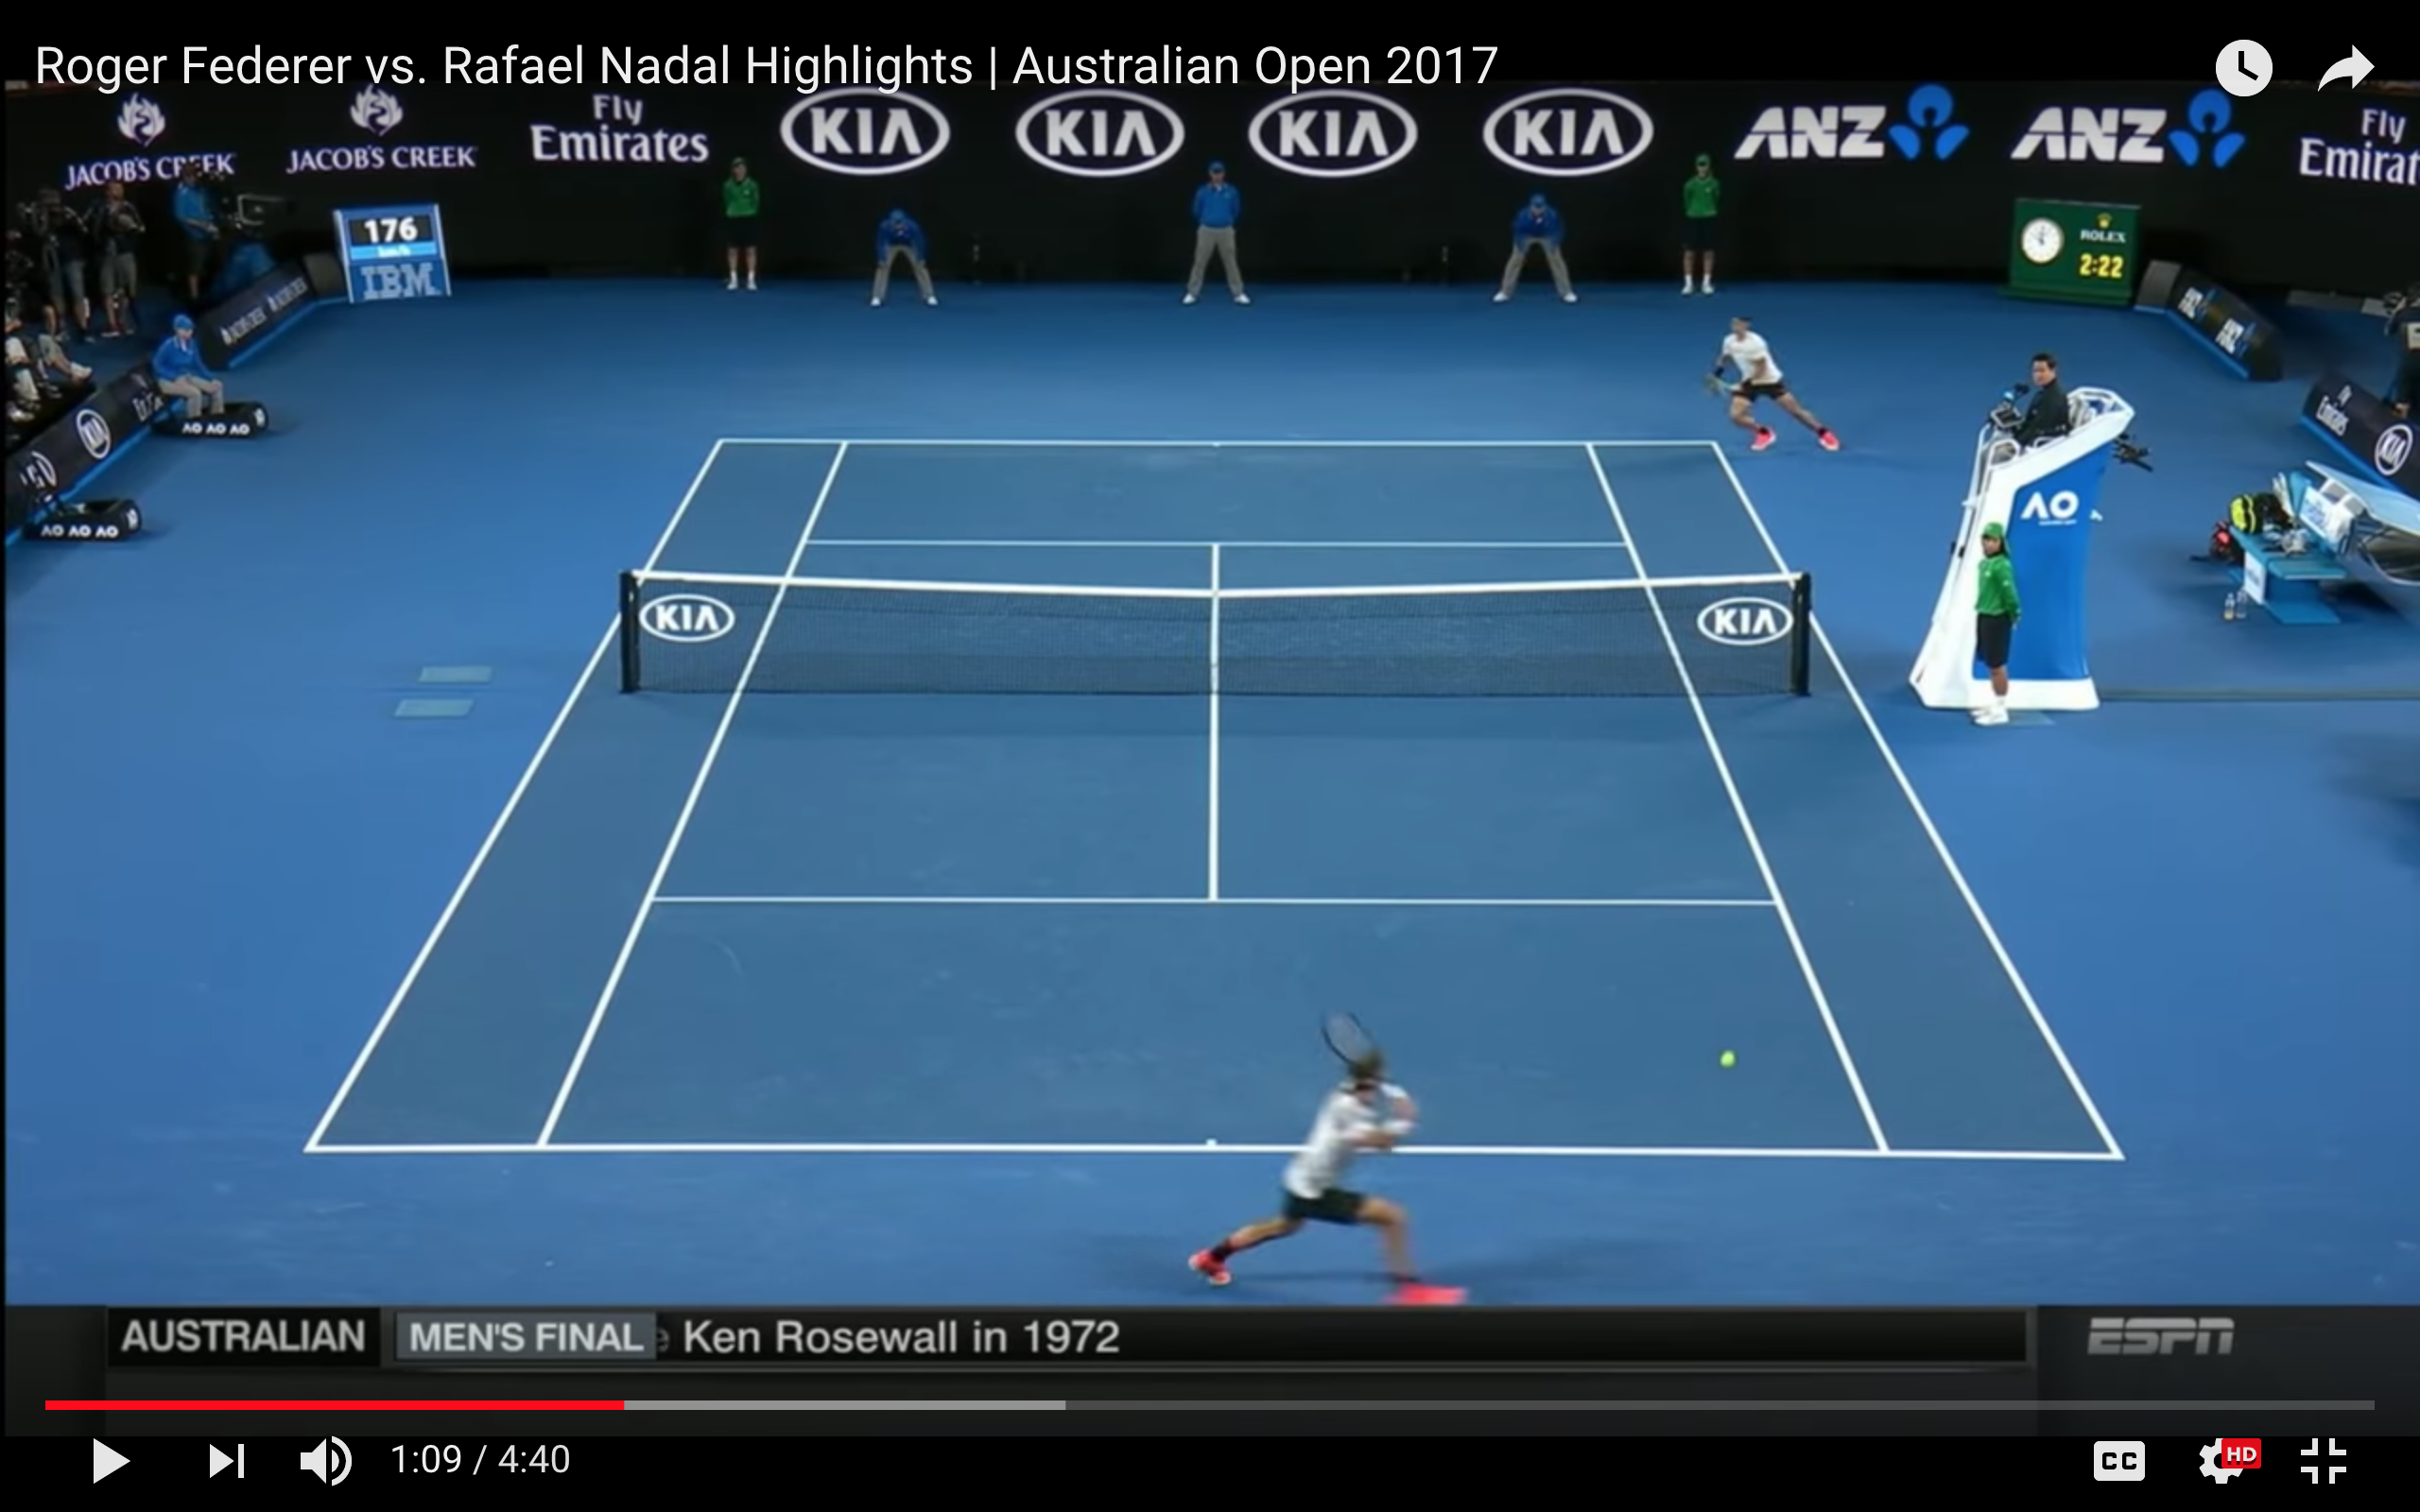tennis ball: (1712, 1046, 1743, 1072)
tennis player: (1191, 1011, 1413, 1303), (1701, 310, 1848, 456)
